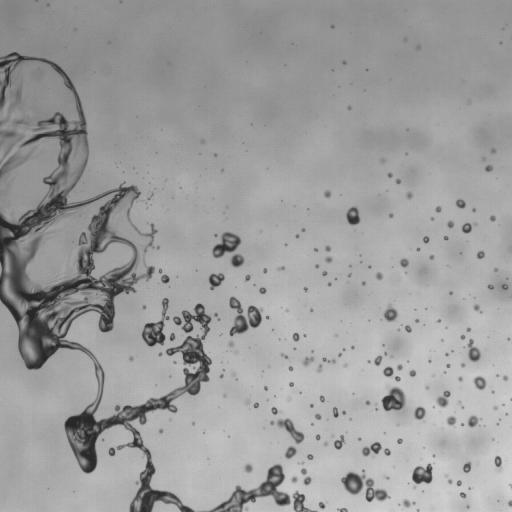droplet: (341, 469, 389, 501), (229, 296, 262, 334), (212, 232, 241, 258), (381, 384, 405, 411), (412, 463, 432, 488), (208, 273, 224, 290), (382, 366, 400, 381), (346, 206, 360, 225), (362, 442, 381, 456), (383, 304, 398, 321), (436, 390, 450, 407), (230, 254, 244, 267), (473, 376, 486, 390), (467, 415, 480, 427), (285, 446, 297, 459), (414, 406, 425, 419), (334, 435, 344, 449), (461, 222, 471, 233), (402, 499, 415, 507), (302, 356, 313, 365), (462, 461, 471, 472), (494, 456, 501, 470), (446, 416, 456, 425), (456, 199, 465, 208), (374, 355, 382, 365), (244, 463, 252, 473), (400, 258, 408, 267), (161, 274, 169, 283), (0, 117, 8, 125), (473, 304, 481, 312), (476, 251, 485, 258), (292, 332, 299, 341), (332, 407, 338, 417), (447, 220, 454, 228), (271, 407, 279, 414), (259, 287, 266, 294), (383, 448, 390, 455), (324, 190, 330, 198), (376, 272, 382, 280), (485, 165, 492, 171), (406, 192, 412, 199), (423, 236, 429, 243), (325, 256, 332, 262), (405, 325, 411, 332), (291, 476, 297, 483), (459, 492, 466, 498), (318, 502, 325, 508), (170, 333, 175, 341), (317, 364, 322, 372), (435, 206, 441, 212), (409, 370, 415, 376), (315, 413, 321, 419), (319, 395, 324, 402), (490, 215, 495, 221), (325, 245, 330, 251), (245, 275, 250, 281), (228, 341, 233, 347), (281, 353, 287, 358), (397, 364, 402, 370), (307, 454, 313, 459), (502, 284, 507, 289), (253, 402, 258, 407), (397, 438, 402, 443), (278, 266, 284, 270), (246, 399, 250, 405), (508, 500, 511, 507), (491, 148, 495, 153), (148, 194, 152, 199), (429, 255, 434, 259), (263, 268, 267, 273), (322, 271, 327, 275), (488, 285, 493, 289), (460, 335, 465, 339), (129, 356, 133, 361), (458, 376, 462, 381), (289, 382, 293, 387), (365, 400, 369, 405), (316, 435, 320, 440), (457, 480, 461, 485), (388, 173, 392, 177), (396, 179, 400, 183), (389, 213, 393, 217), (466, 327, 470, 331), (158, 352, 162, 356), (343, 363, 347, 367), (446, 363, 450, 367), (503, 376, 507, 380), (493, 405, 497, 409), (444, 236, 448, 239), (315, 264, 319, 267), (159, 269, 162, 273), (304, 287, 307, 291), (445, 352, 448, 356), (461, 363, 464, 367), (289, 366, 292, 370), (159, 429, 162, 433), (324, 442, 328, 445), (417, 46, 420, 49), (381, 159, 384, 162), (296, 234, 299, 237), (314, 248, 317, 251), (417, 248, 420, 251), (494, 268, 497, 271), (362, 281, 365, 284), (142, 305, 145, 308), (415, 319, 418, 322), (437, 319, 440, 322), (338, 353, 341, 356), (220, 375, 223, 378), (458, 401, 461, 404), (310, 404, 313, 407), (342, 411, 345, 414), (358, 437, 361, 440), (385, 476, 388, 479), (509, 484, 511, 488), (331, 25, 333, 28), (343, 61, 345, 64), (348, 106, 350, 109), (201, 140, 204, 142), (472, 209, 475, 211), (431, 217, 433, 220), (302, 228, 304, 231), (328, 283, 331, 285), (266, 316, 269, 318), (303, 334, 306, 336), (351, 346, 354, 348), (173, 361, 176, 363), (428, 360, 431, 362), (232, 373, 235, 375), (264, 387, 267, 389), (426, 386, 428, 389), (299, 462, 302, 464), (214, 154, 216, 156), (483, 158, 485, 160), (215, 234, 217, 236), (348, 274, 350, 276), (450, 292, 452, 294), (289, 397, 291, 399)
ligament: (0, 56, 209, 511), (201, 464, 316, 511), (141, 298, 169, 346), (0, 148, 35, 180), (270, 418, 304, 444), (8, 79, 23, 112), (466, 339, 480, 361), (301, 468, 311, 485), (322, 357, 335, 363), (445, 474, 452, 484), (214, 313, 220, 320), (337, 508, 347, 511)
